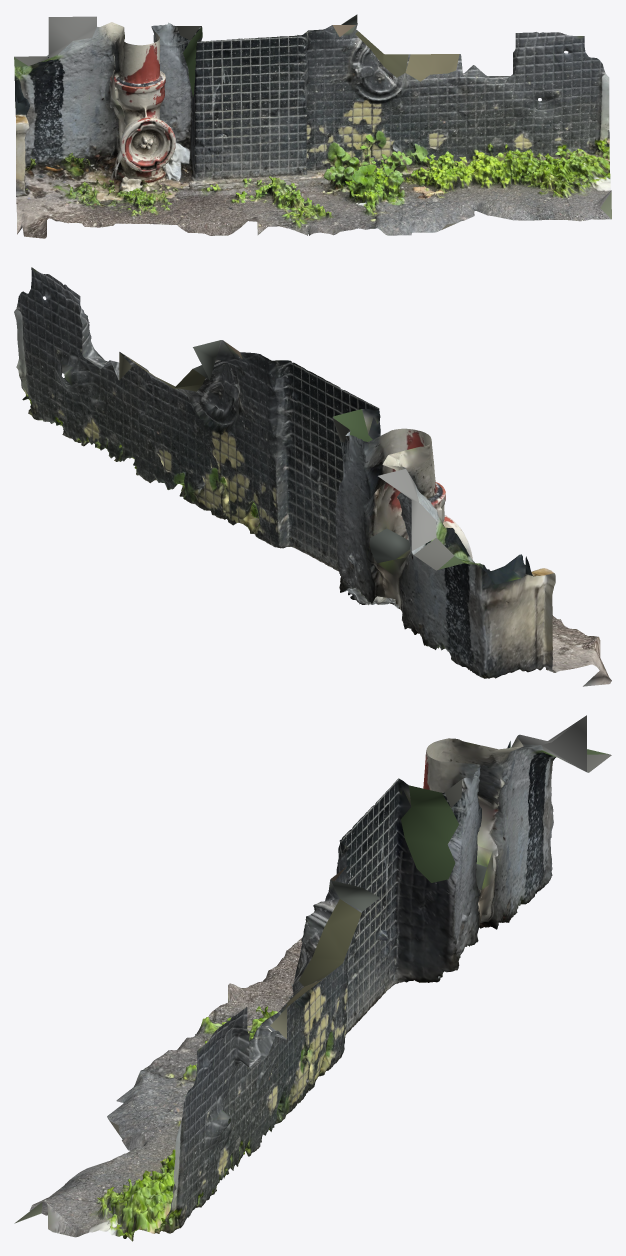
The model's file is plant1.glb.
The picture shows the model from 3 angles, top to bottom: view 1: azimuth 30°, elevation 25°; view 2: azimuth 150°, elevation 25°; view 3: azimuth 270°, elevation 25°; orthographic projection. The views are drawn at different scales.
Visible parts, largest first — view 1: g; view 2: g; view 3: g.
Part boxes in pixels (x1,y1,x2,y2): g: (14,14,611,238); g: (14,267,611,686); g: (14,715,611,1241).
Size of the model in its own units: 1.66 by 0.4768 by 1.11.
1 material, 1 textured.
